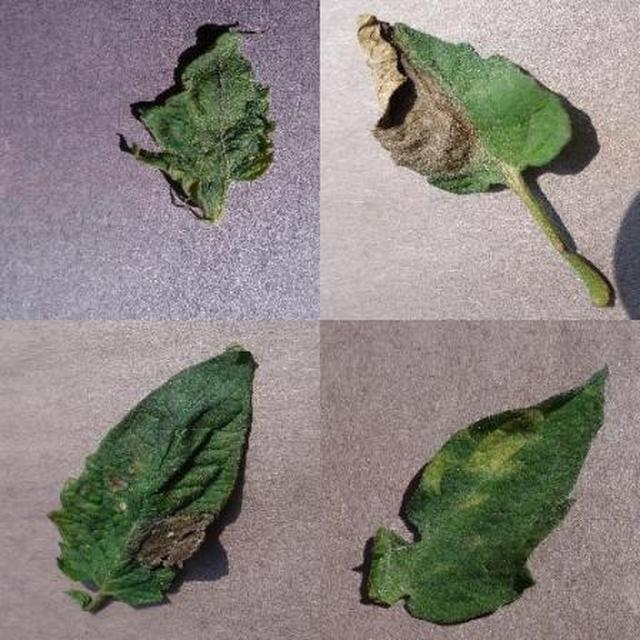Mosaic Virus Leaf: (217, 150, 640, 640)
